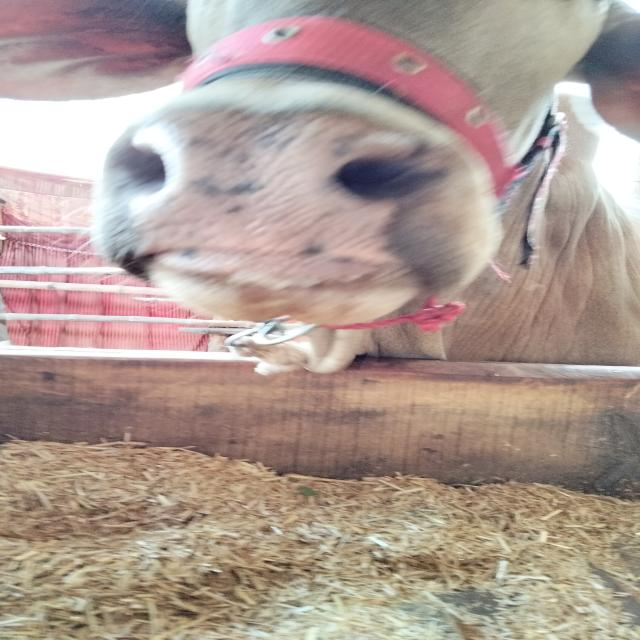muzzles: (114, 97, 443, 287)
